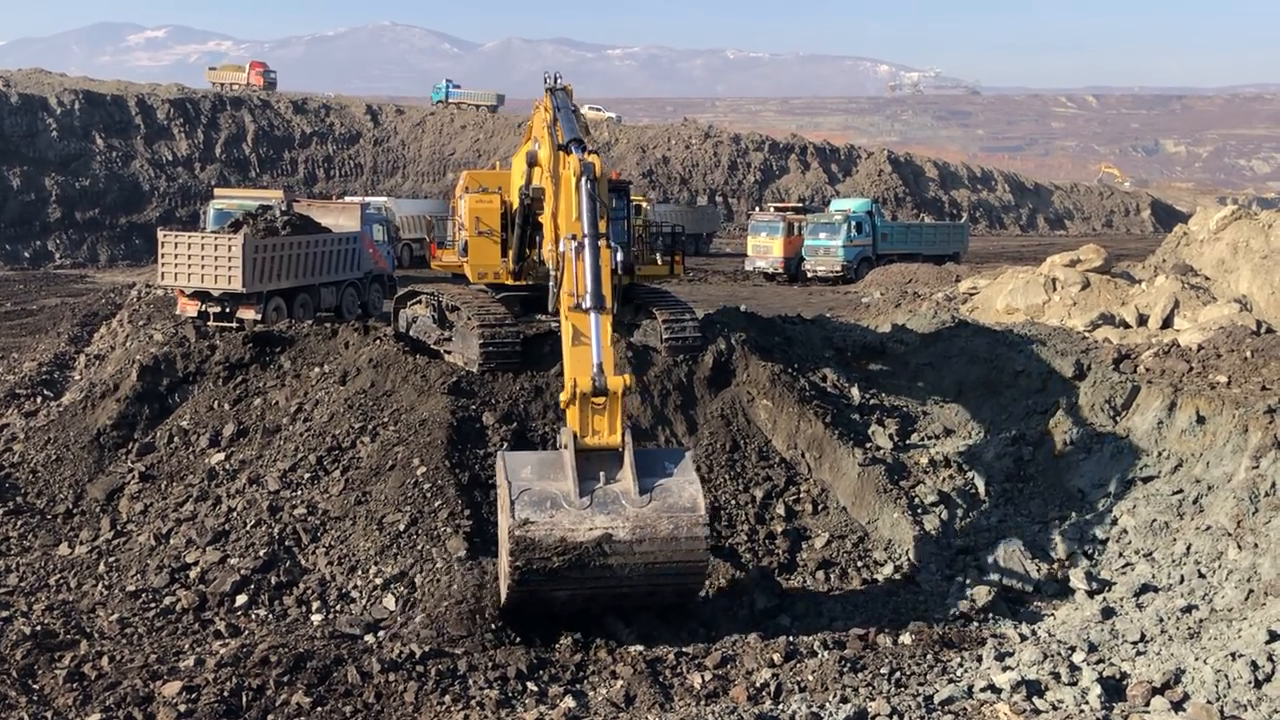empty: (491, 438, 717, 622)
